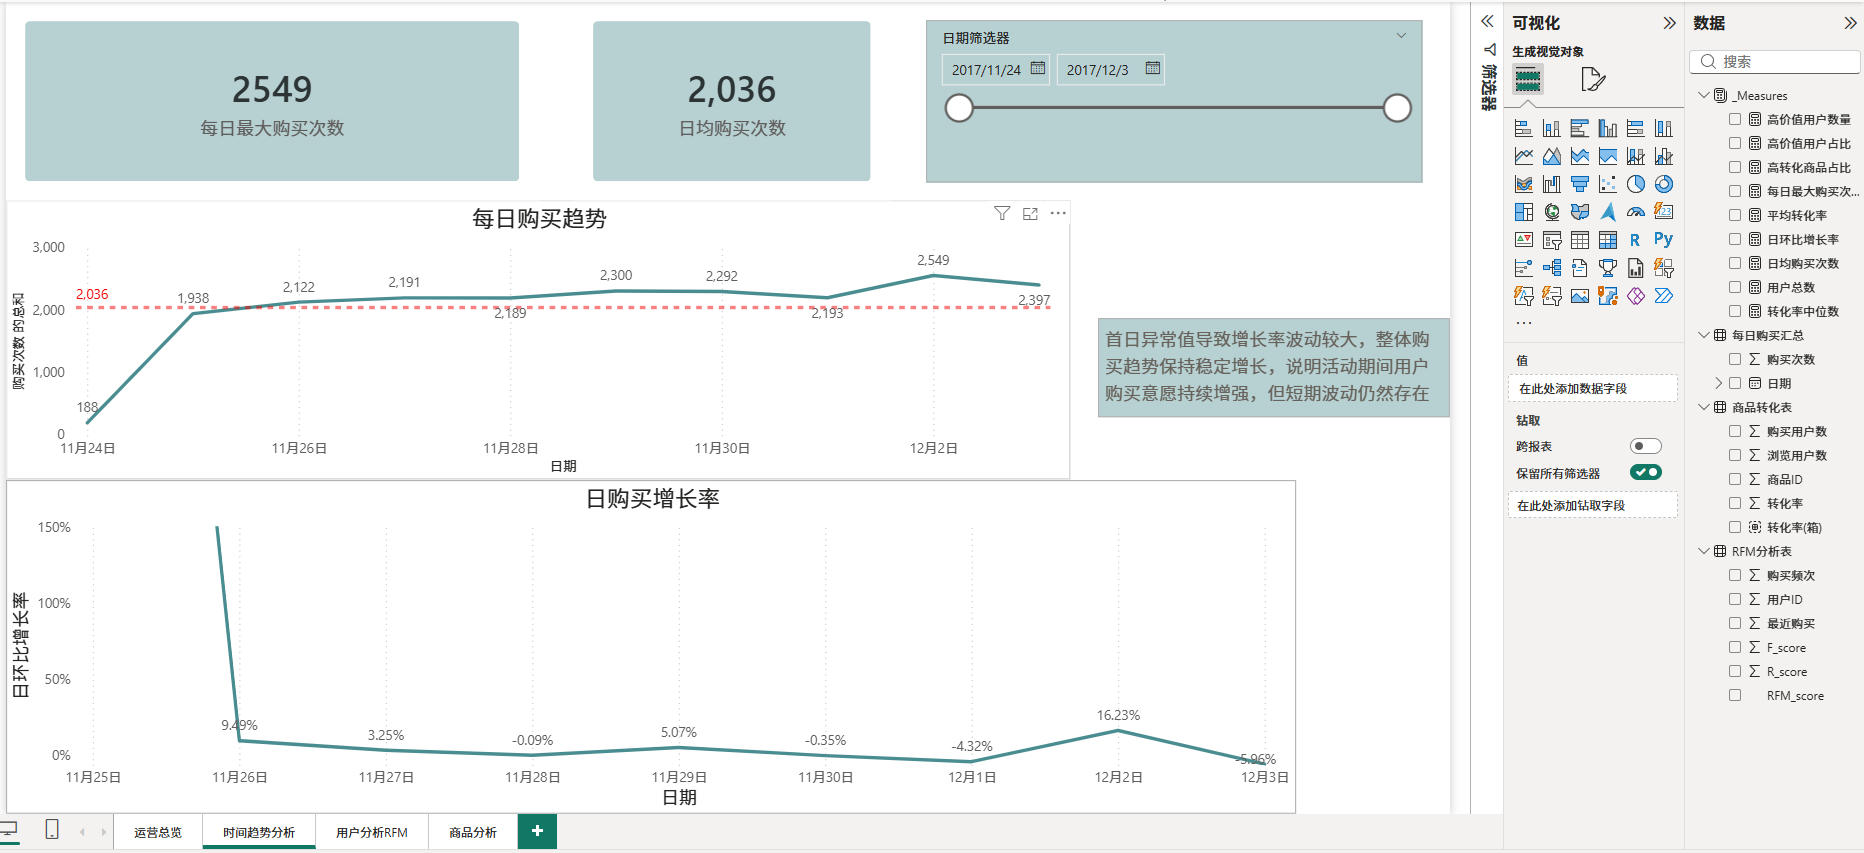

The dashboard page shown, as its layout file describes it:
{"tool":"powerbi","page":{"name":"时间趋势分析","canvas":[1280,720],"ordinal":1},"visuals":[{"type":"lineChart","title":"每日购买趋势","fields":{"Y":["Sum(每日购买次数表.buy_count)"],"Category":["每日购买次数表.date"]},"box":[0,176,944,248],"z":0},{"type":"lineChart","title":"日购买增长率","fields":{"Y":["Measures (.日环比增长率"],"Category":["每日购买汇总.date"]},"box":[0,424,1144,296],"z":1000},{"type":"cardVisual","fields":{"Data":["Measures (.最大购买量"]},"box":[0,0,472,176],"z":2000},{"type":"slicer","fields":{"Values":["每日购买汇总.date"]},"box":[816,16,440,144],"z":3000},{"type":"cardVisual","fields":{"Data":["Measures (.日均购买次数"]},"box":[504,0,280,176],"z":4000},{"type":"textbox","box":[968,280,312,88],"z":5000}]}

Visuals, with their boxes on the page's 1280x720 design canvas (x1, y1, x2, y2). These are canvas units, not pixel positions in the 1864x853 screenshot, which may show the page scaled, cropped or inside an application window:
"每日购买趋势" lineChart: Rect(0, 176, 944, 424)
"日购买增长率" lineChart: Rect(0, 424, 1144, 720)
cardVisual - Measures (.最大购买量: Rect(0, 0, 472, 176)
slicer - 每日购买汇总.date: Rect(816, 16, 1256, 160)
cardVisual - Measures (.日均购买次数: Rect(504, 0, 784, 176)
textbox: Rect(968, 280, 1280, 368)
